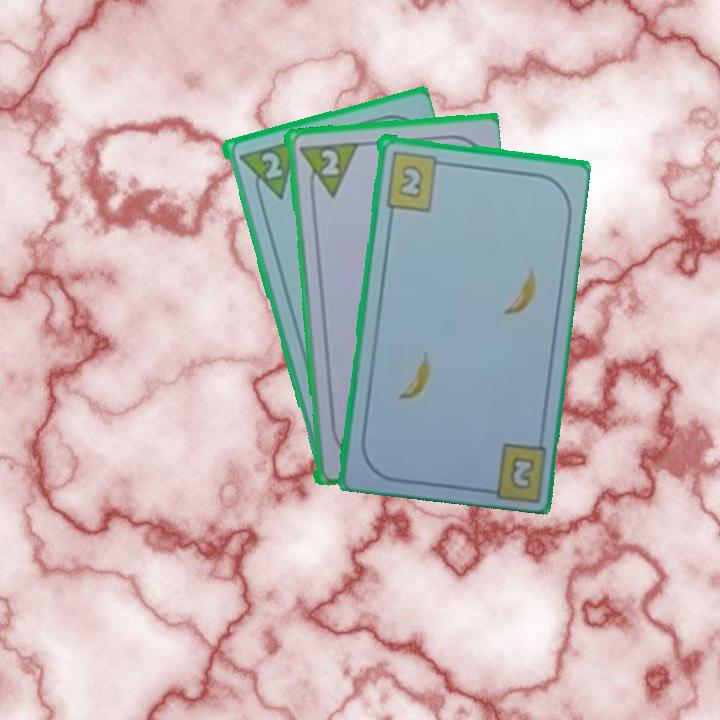2b: (381, 147, 449, 213), (506, 452, 537, 493)
2p: (257, 148, 285, 181), (317, 145, 342, 178)
